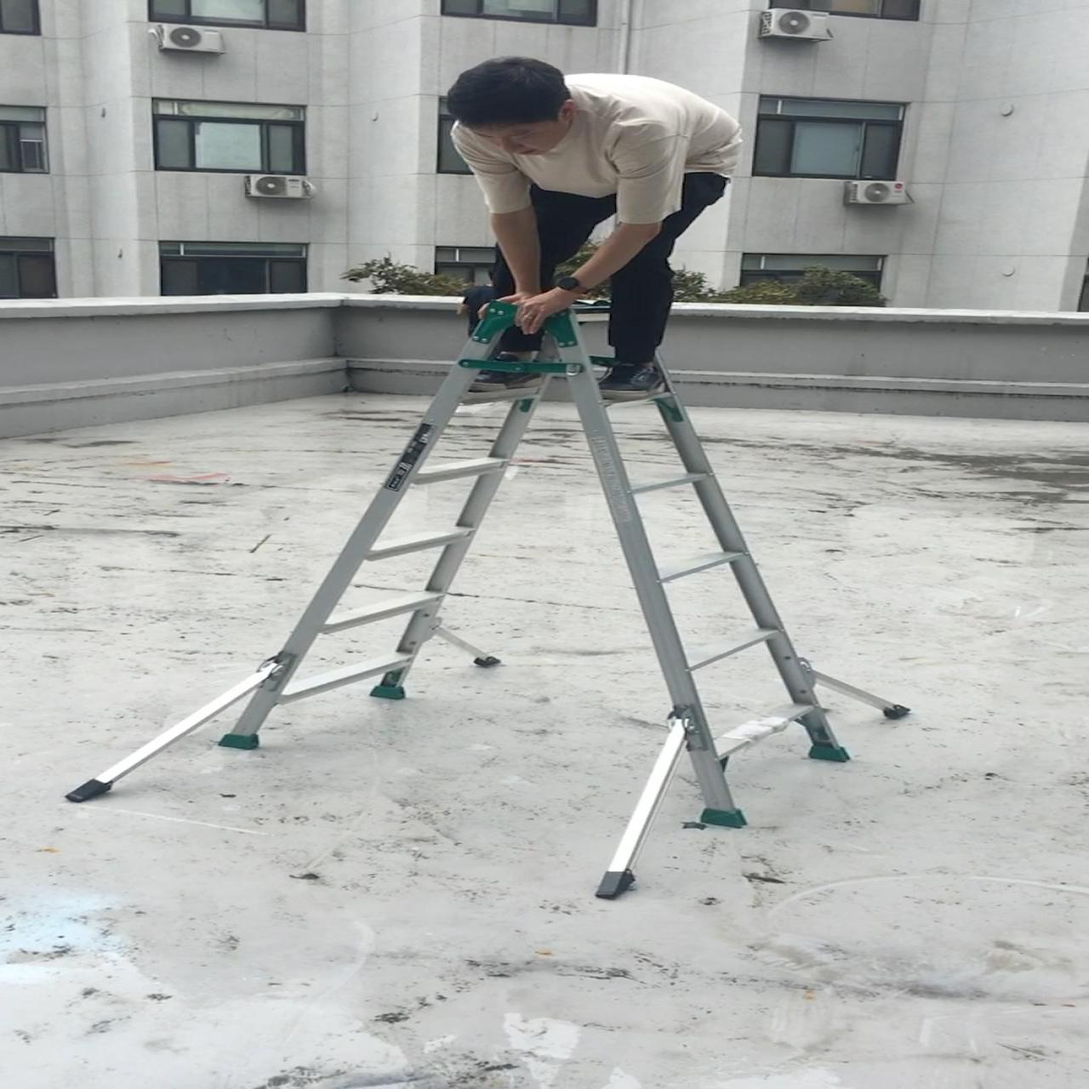NO_Safety_Vest: (506, 72, 733, 194)
Person: (442, 57, 742, 402)
